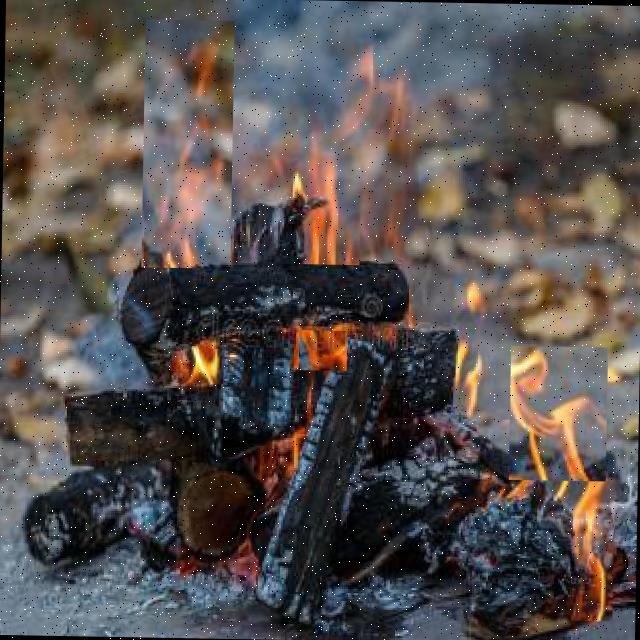fire: (141, 18, 234, 268), (508, 345, 608, 481), (296, 132, 361, 264), (570, 478, 614, 622), (298, 330, 347, 370), (170, 348, 224, 383)
